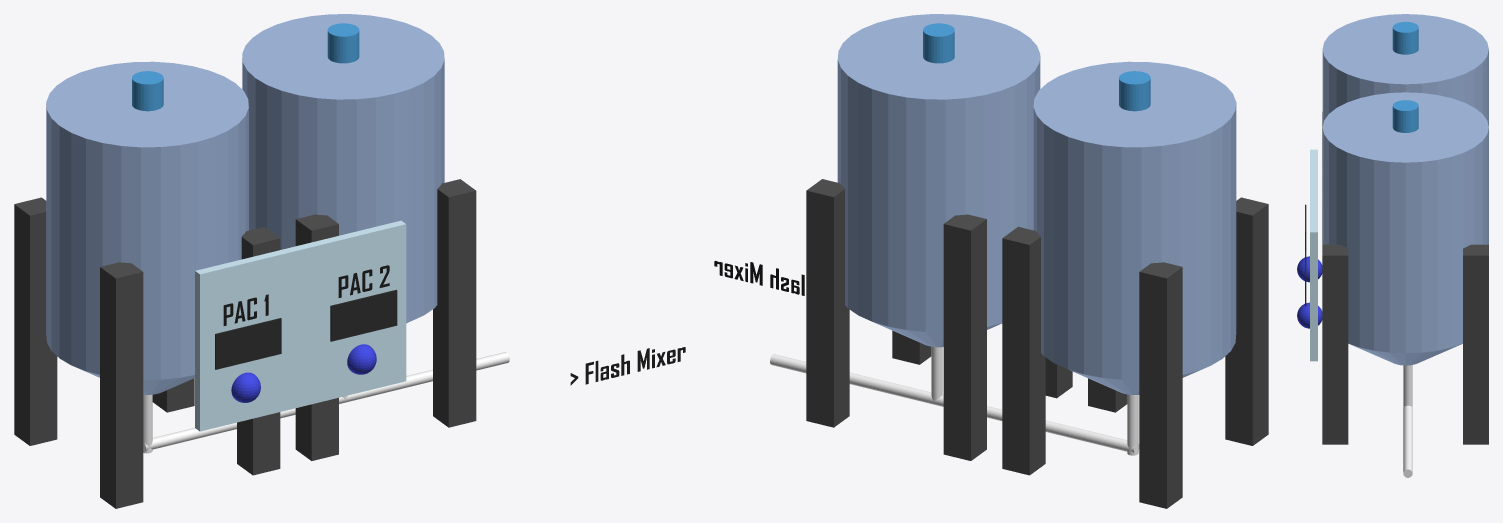
The model's file is dosing2.glb.
The picture shows the model from 3 angles, left to right: view 1: azimuth 30°, elevation 25°; view 2: azimuth 150°, elevation 25°; view 3: azimuth 270°, elevation 25°; orthographic projection. The views are drawn at different scales.
Visible parts, largest first — view 1: Cylinder, Cylinder001, Cube008, Cube002, Cube007, Cube, Cube006, Cube003, Cube010, Cube009, Cylinder006, Cylinder003 (+3 smaller); view 2: Cylinder, Cylinder001, Cube, Cube004, Cube005, Cube001, Cube002, Cylinder006, Cylinder003, Cylinder002, Text002, Cube007 (+4 smaller); view 3: Cylinder001, Cylinder, Cube007, Cube005, Cube008, Cylinder002, Cylinder003, Cylinder006, Cylinder004, Sphere, Sphere001.
Part boxes in pixels (x1,y1,x2,y2): Cylinder: (46, 61, 248, 394); Cylinder001: (242, 14, 444, 323); Cube008: (195, 220, 406, 431); Cube002: (100, 262, 143, 508); Cube007: (433, 179, 476, 427); Cube: (14, 197, 57, 445); Cube006: (295, 214, 338, 460); Cube003: (237, 227, 280, 475); Cube010: (330, 289, 397, 341); Cube009: (215, 318, 281, 369); Cylinder006: (144, 352, 509, 450); Cylinder003: (327, 23, 359, 63); Cylinder: (1033, 61, 1236, 394); Cylinder001: (837, 14, 1040, 347); Cube: (1139, 262, 1182, 508); Cube004: (943, 214, 986, 460); Cube005: (806, 179, 849, 427); Cube001: (1002, 226, 1045, 475); Cube002: (1225, 197, 1268, 445); Cylinder006: (770, 354, 1139, 453); Cylinder003: (923, 23, 954, 63); Cylinder002: (1119, 71, 1150, 111); Text002: (714, 261, 804, 295); Cube007: (892, 330, 931, 364); Cylinder001: (1322, 92, 1488, 365); Cylinder: (1322, 14, 1488, 126); Cube007: (1322, 244, 1348, 444); Cube005: (1463, 244, 1488, 444); Cube008: (1310, 149, 1317, 361); Cylinder002: (1392, 21, 1418, 54); Cylinder003: (1392, 100, 1418, 132); Cylinder006: (1403, 405, 1412, 477); Cylinder004: (1403, 365, 1412, 406); Sphere: (1297, 302, 1322, 328); Sphere001: (1297, 256, 1322, 282).
Bounding box in the file's own units: 10.33 × 6.51 × 3.69.
